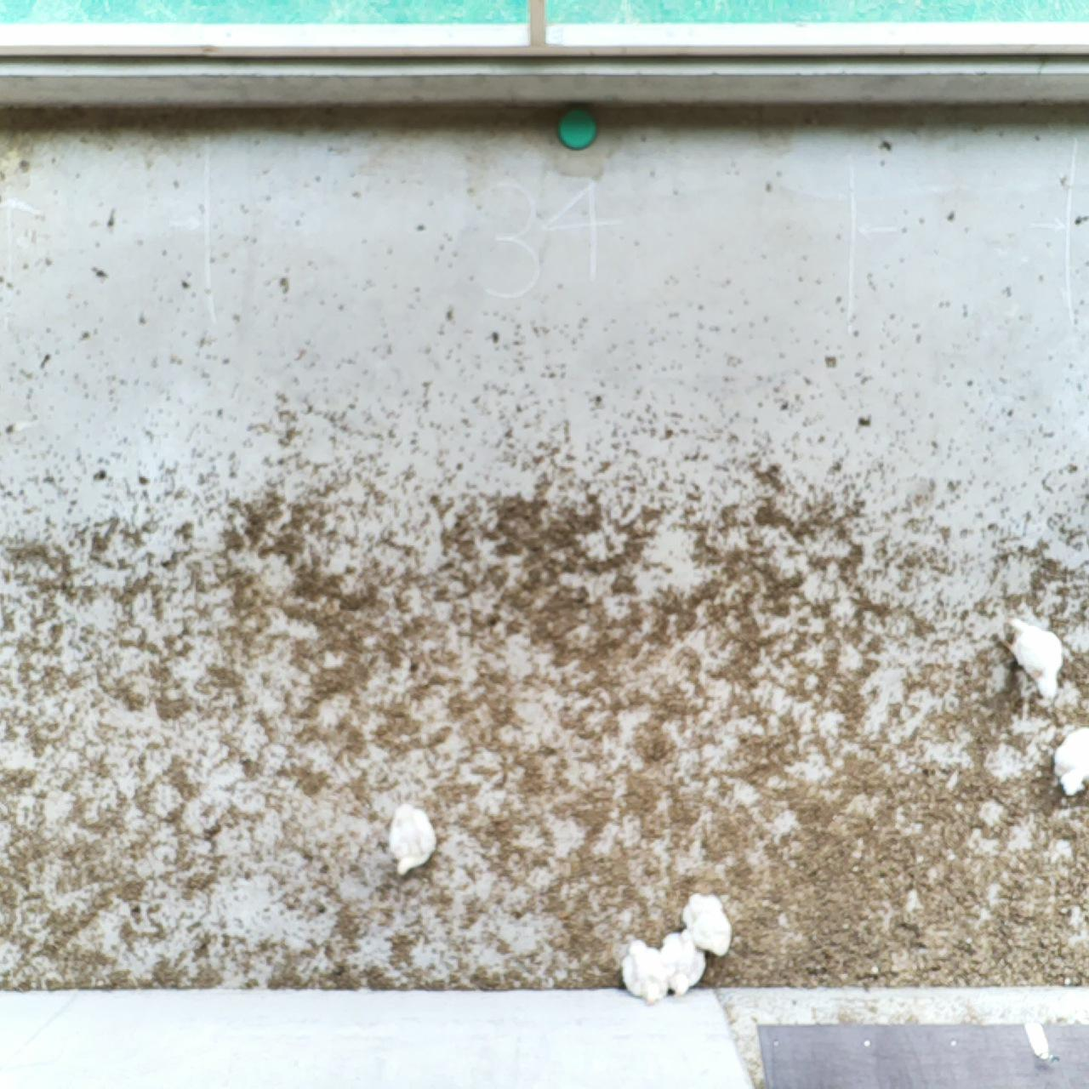chicken: (997, 618, 1066, 703), (680, 891, 734, 960), (388, 801, 436, 874), (621, 939, 669, 1005), (662, 930, 706, 994), (1053, 727, 1089, 796)
